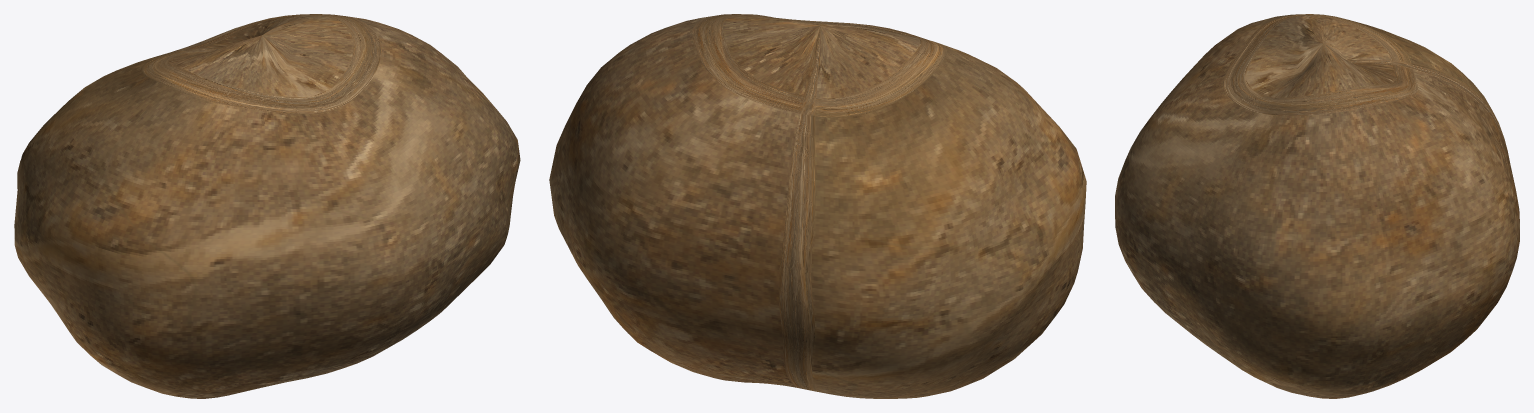
File: variant-02.glb
The picture shows the model from 3 angles, left to right: view 1: azimuth 30°, elevation 25°; view 2: azimuth 150°, elevation 25°; view 3: azimuth 270°, elevation 25°; orthographic projection. The views are drawn at different scales.
Parts seen in each view (by area): view 1: RiverPebble_02; view 2: RiverPebble_02; view 3: RiverPebble_02.
Boxes of the visible parts, <box> form: RiverPebble_02: <box>14,14,520,398</box>; RiverPebble_02: <box>549,14,1086,398</box>; RiverPebble_02: <box>1115,14,1519,398</box>.
Bounding box in the file's own units: 0.74 × 0.5078 × 0.5938.
Materials: 1 (1 with a texture image).
